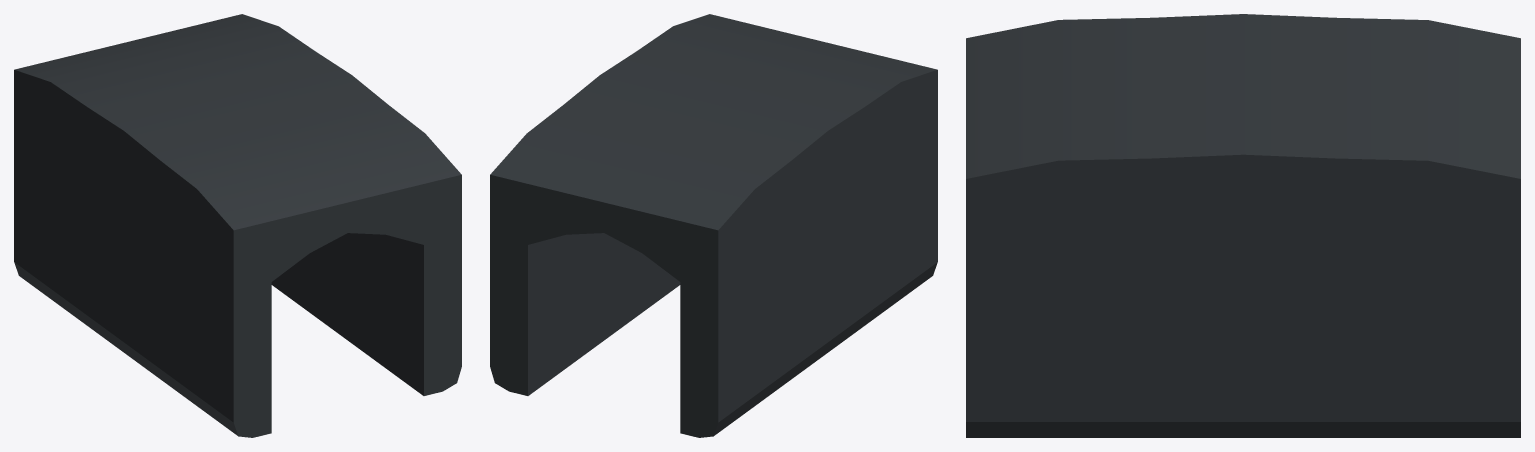
The model's file is Tunnel 2.fbx.
3 renders of one model, left to right at view 1: azimuth 30°, elevation 25°; view 2: azimuth 150°, elevation 25°; view 3: azimuth 270°, elevation 25°, orthographic. The views are drawn at different scales.
Visible parts, largest first — view 1: Tunnel 2; view 2: Tunnel 2; view 3: Tunnel 2.
Part boxes in pixels (bbox=[...]): Tunnel 2: bbox=[14, 14, 461, 437]; Tunnel 2: bbox=[490, 14, 937, 437]; Tunnel 2: bbox=[966, 14, 1520, 437].
Size of the model in its own units: 30 by 29.08 by 50.
1 material, 1 textured.
